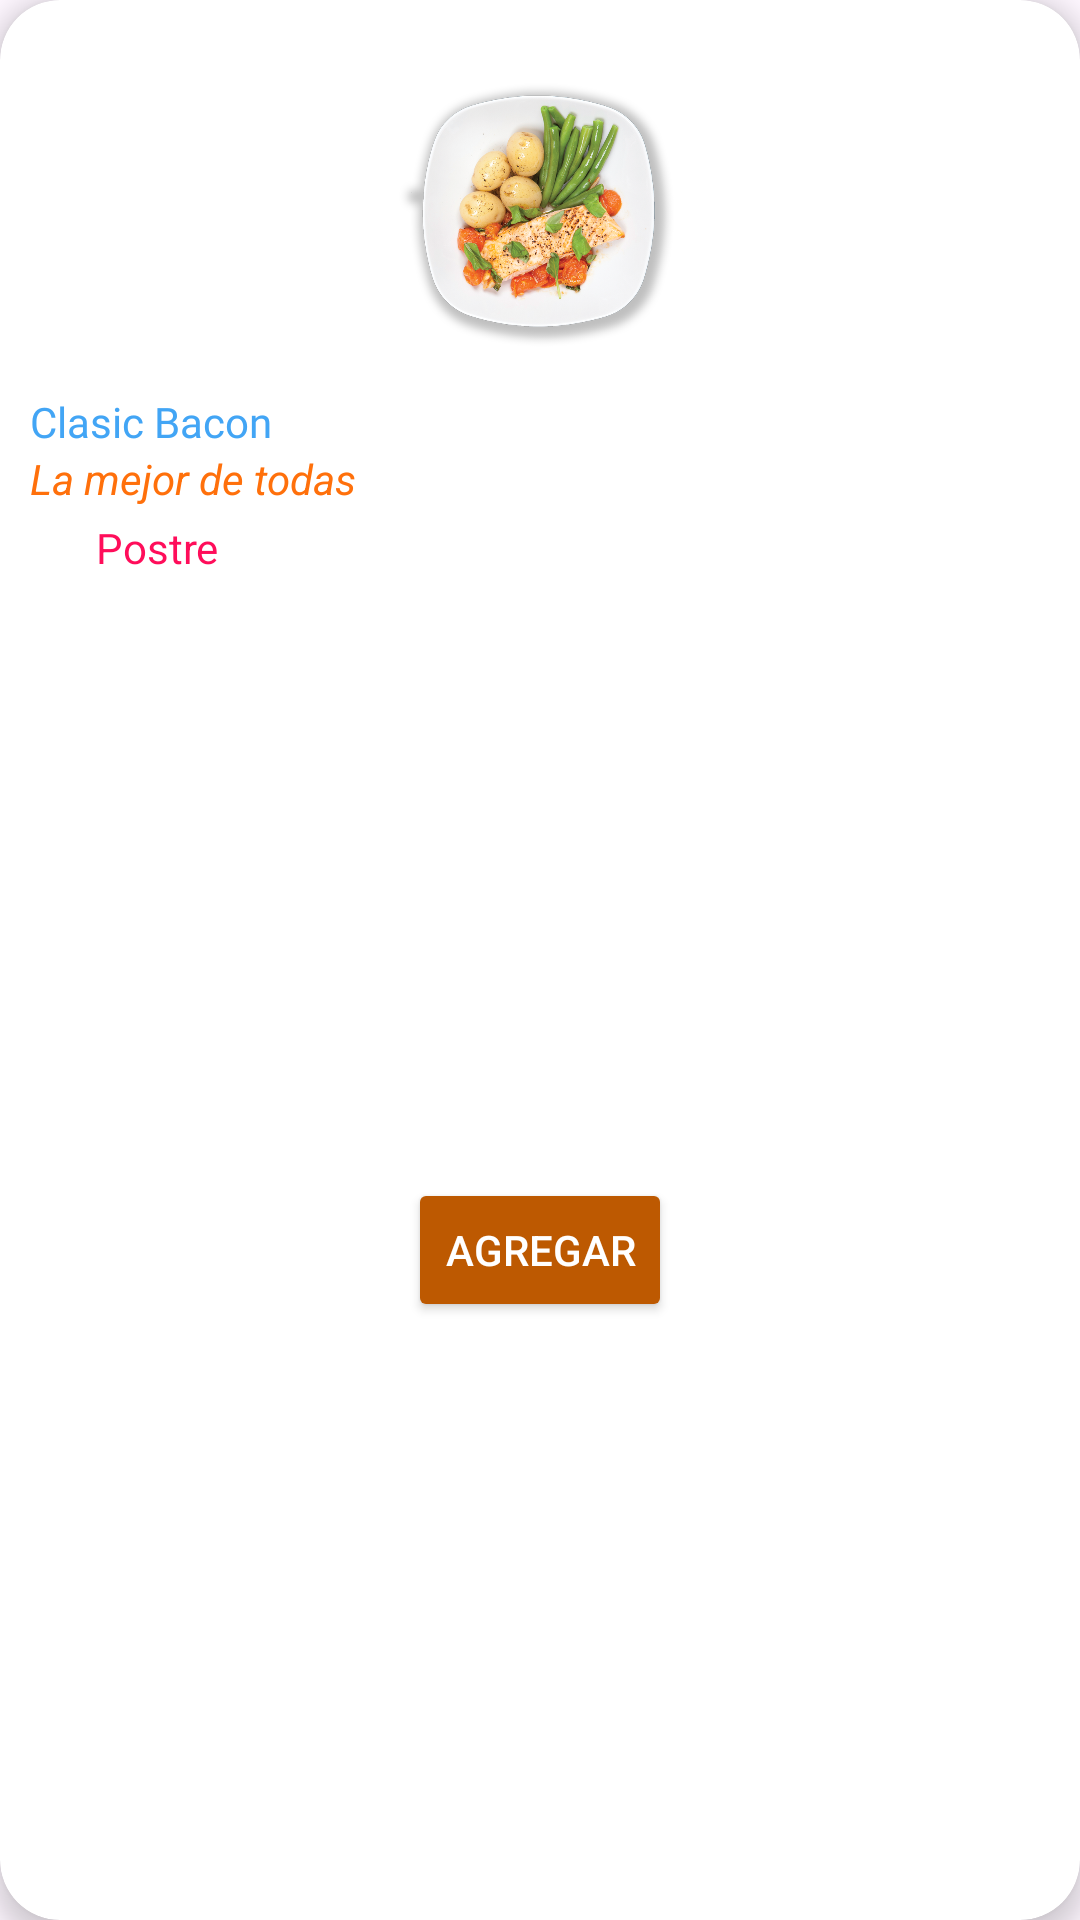

Icon bounding boxes for this 1080 x 1920 phone screenshot, format (x1, y1, x2, y2):
food: (404, 87, 670, 343)
